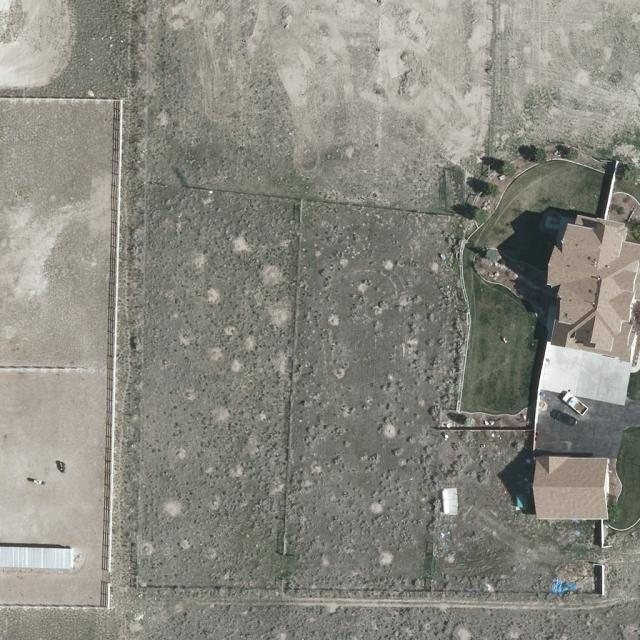vehicle: (562, 392, 588, 417), (551, 409, 577, 427)
